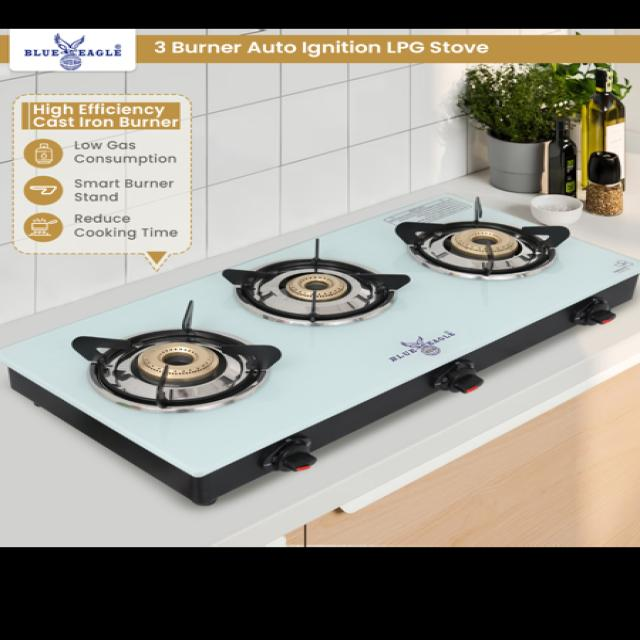knob_ON: (39, 308, 308, 422), (202, 242, 434, 340), (383, 188, 574, 298)
